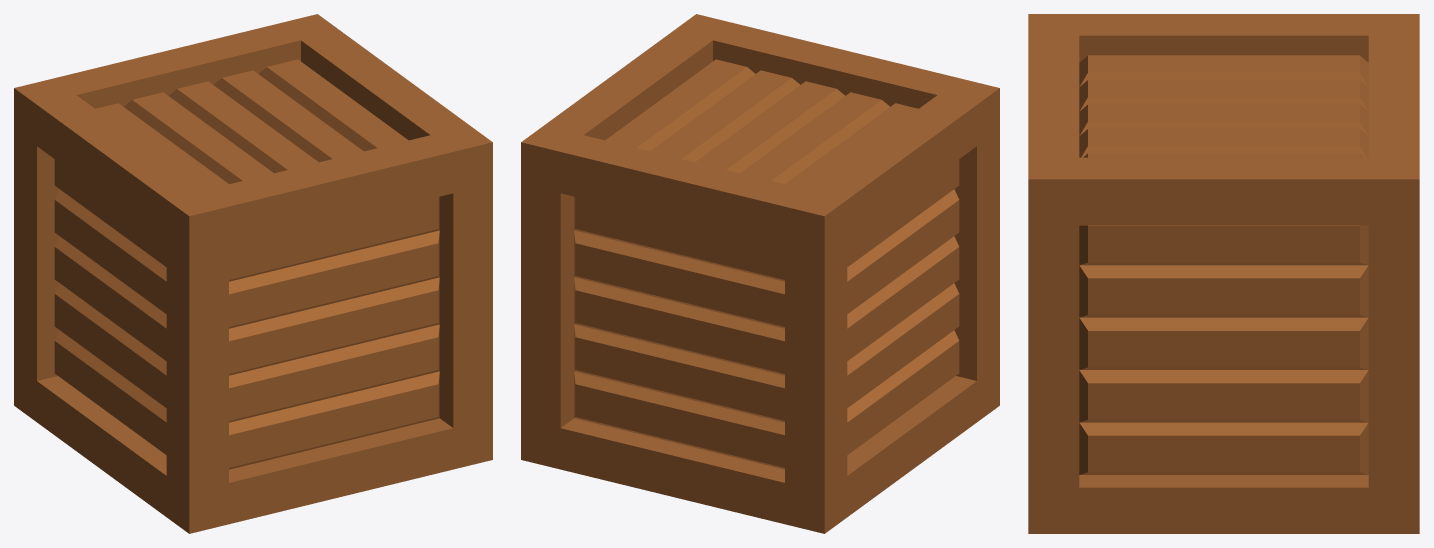
Rendered from caja.fbx.
3 renders of one model, left to right at view 1: azimuth 30°, elevation 25°; view 2: azimuth 150°, elevation 25°; view 3: azimuth 270°, elevation 25°, orthographic. The views are drawn at different scales.
Parts seen in each view (by area): view 1: wooden box; view 2: wooden box; view 3: wooden box.
Part boxes in pixels (x1=…): wooden box: x1=14, y1=14, x2=492, y2=533; wooden box: x1=521, y1=14, x2=999, y2=533; wooden box: x1=1028, y1=14, x2=1419, y2=533.
Size of the model in its own units: 54.56 by 54.56 by 54.56.
